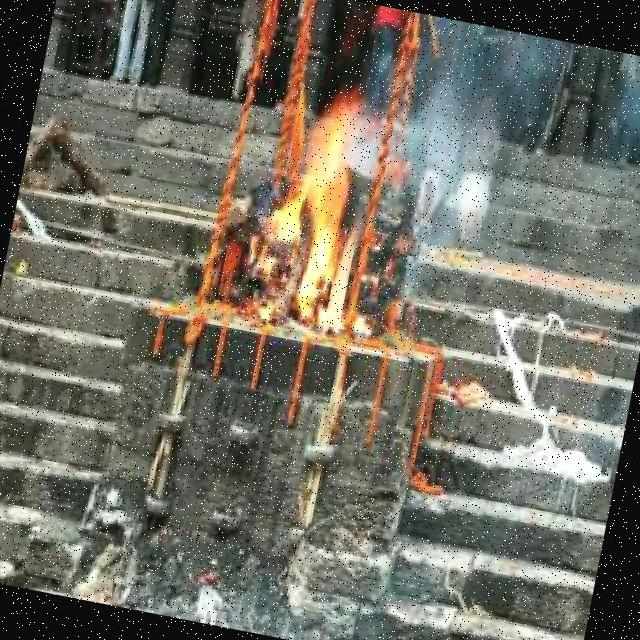Fire: (247, 94, 391, 343)
